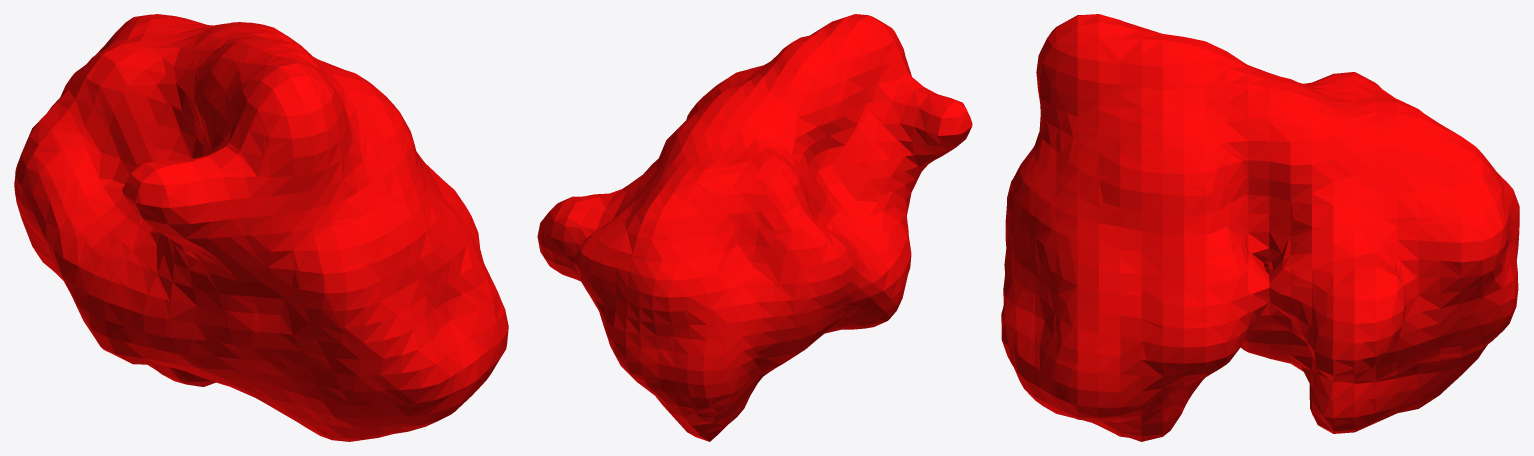
File: folD_coarse.dae
The picture shows the model from 3 angles, left to right: view 1: azimuth 30°, elevation 25°; view 2: azimuth 150°, elevation 25°; view 3: azimuth 270°, elevation 25°; orthographic projection. The views are drawn at different scales.
Visible parts, largest first — view 1: folD; view 2: folD; view 3: folD.
Boxes of the visible parts, x1=… form: folD: x1=14, y1=14, x2=508, y2=441; folD: x1=537, y1=14, x2=972, y2=441; folD: x1=1001, y1=14, x2=1519, y2=441.
Size of the model in its own units: 51.8 by 51.54 by 61.8.
